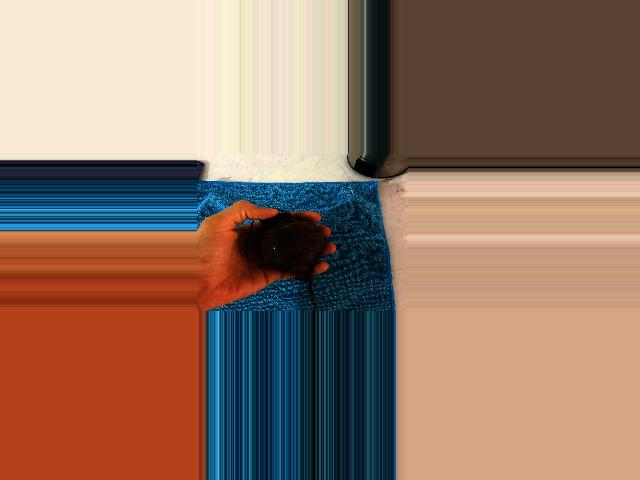beet: (246, 208, 325, 312)
